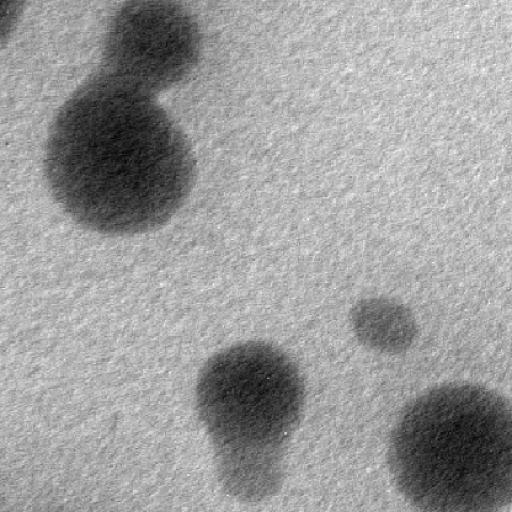Nanoparticles: (44, 80, 196, 233), (389, 382, 509, 510), (198, 340, 302, 440), (109, 0, 202, 90), (215, 433, 288, 501), (348, 295, 416, 353), (1, 2, 31, 52)
